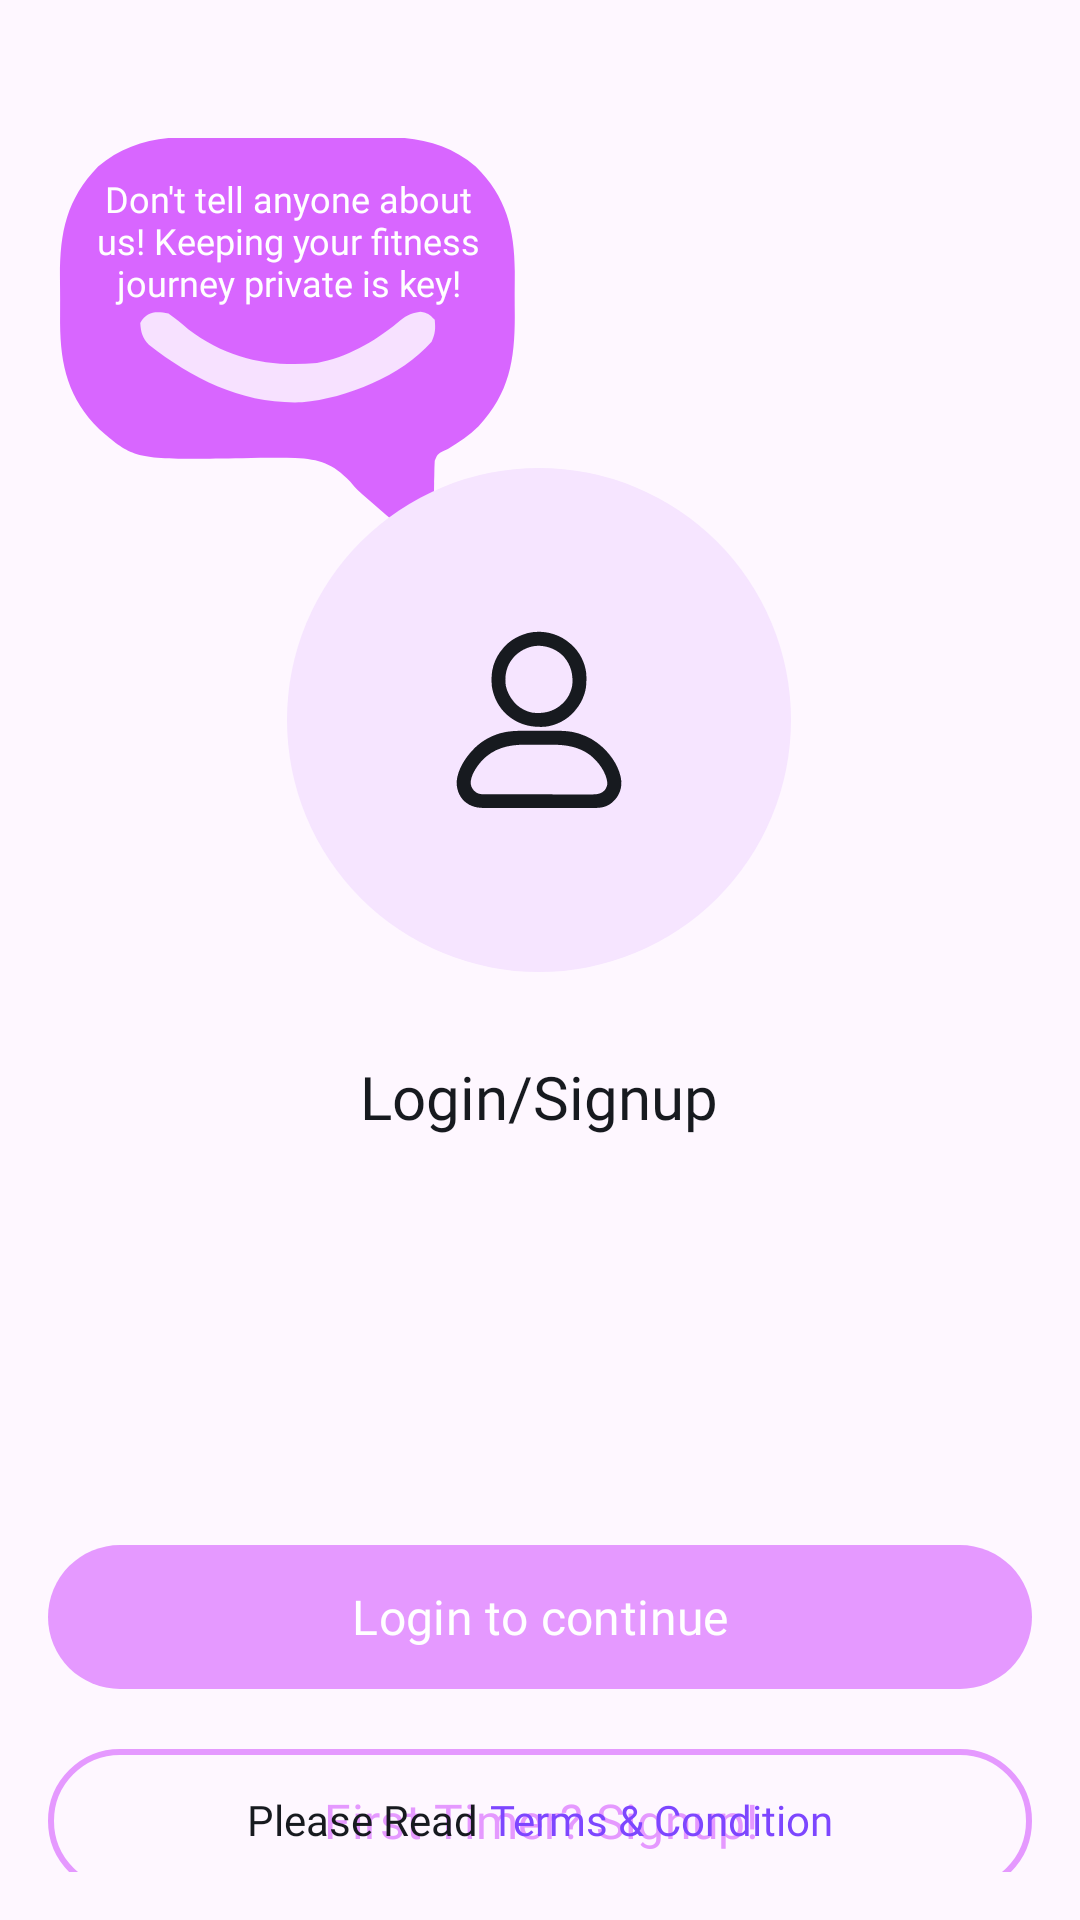

Where to tap for icons on this 1080w x 1920h app screen, as [x,y]:
user icon: [539,719]
